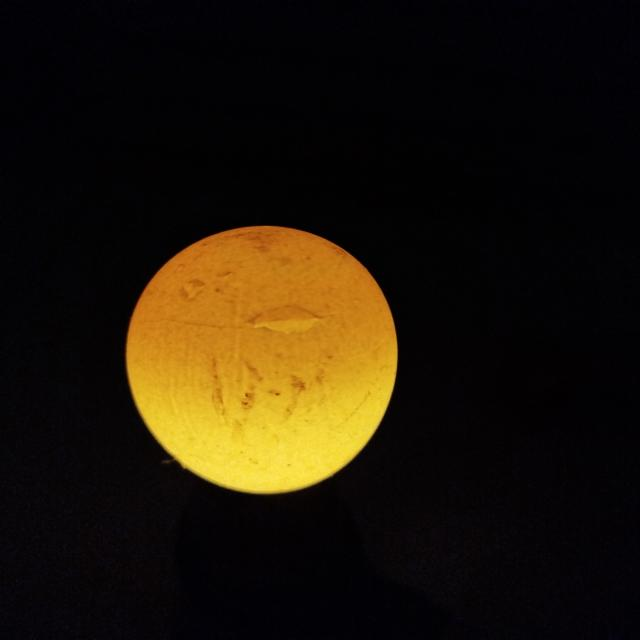Rachadura: (250, 305, 322, 334)
